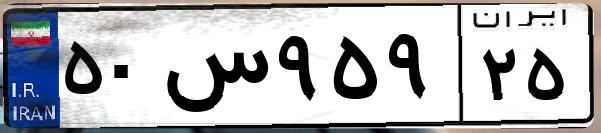0: (110, 28, 158, 98)
2: (475, 38, 525, 113)
5: (330, 28, 385, 110), (57, 26, 110, 100), (525, 38, 570, 115)
9: (270, 28, 330, 110), (385, 28, 445, 110)
س: (158, 20, 270, 120)
